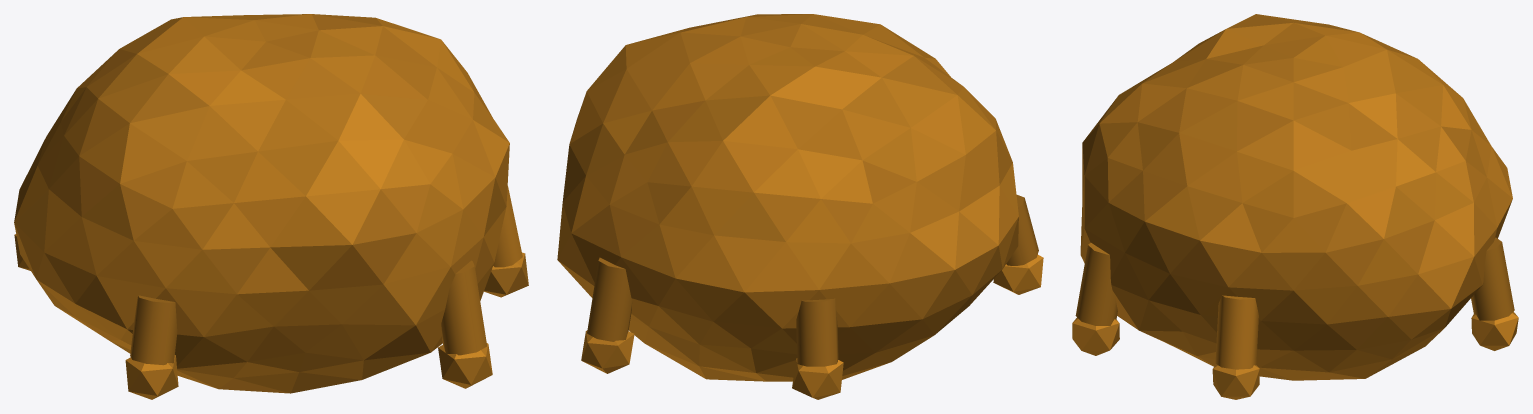
The model's file is latex_resin.glb.
The picture shows the model from 3 angles, left to right: view 1: azimuth 30°, elevation 25°; view 2: azimuth 150°, elevation 25°; view 3: azimuth 270°, elevation 25°; orthographic projection. The views are drawn at different scales.
Parts seen in each view (by area): view 1: Mesh; view 2: Mesh; view 3: Mesh.
Boxes of the visible parts, x1,y1,x2,y2 form: Mesh: (14,14,528,399); Mesh: (557,14,1043,399); Mesh: (1072,14,1518,399).
Size of the model in its own units: 0.6819 by 0.4875 by 0.654.
